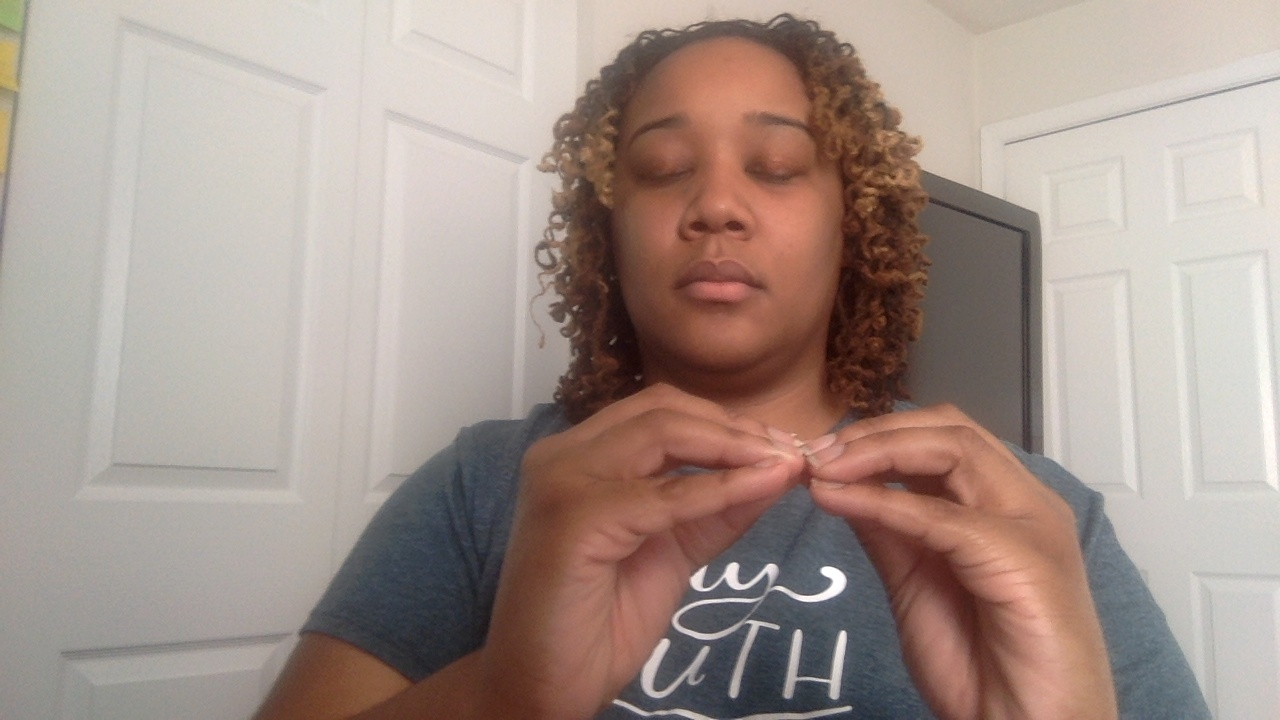more: (486, 380, 1117, 697)
